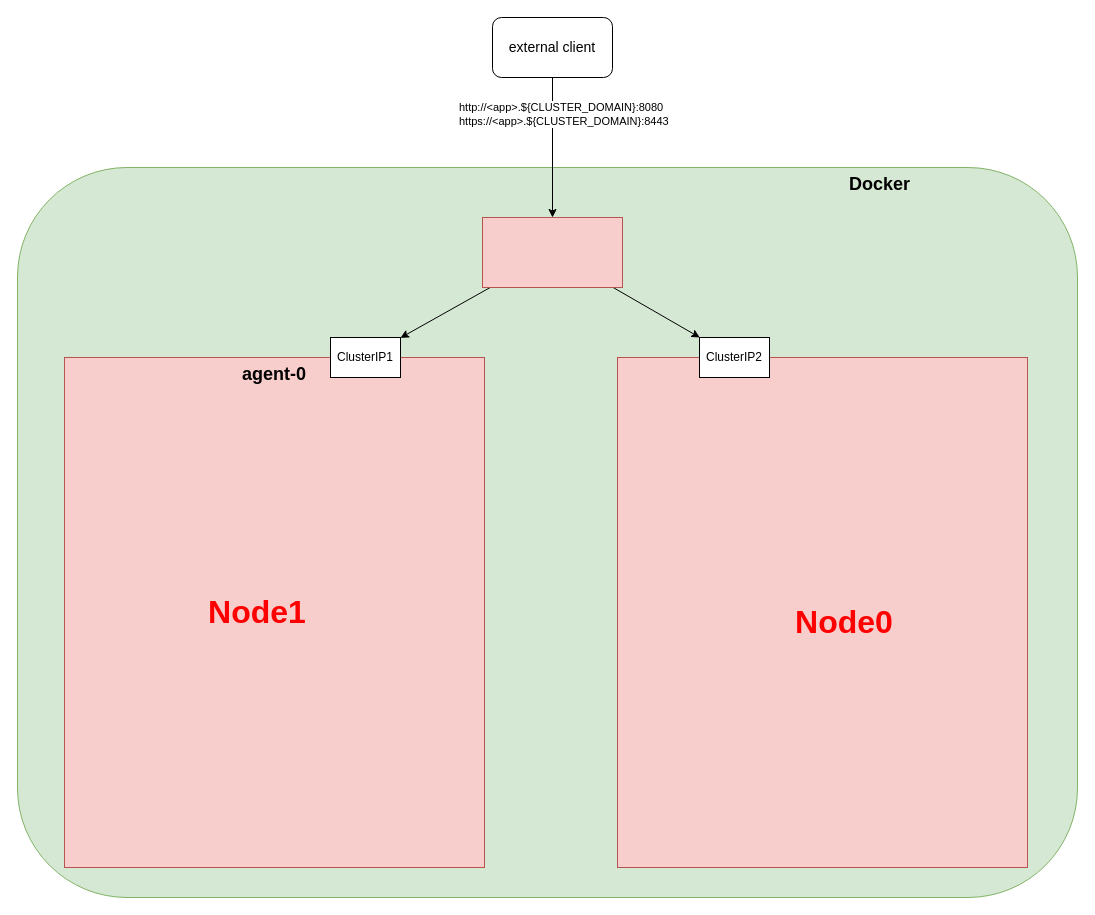
The diagram is 1095 pixels wide and 915 high, and some of its shapes have lost their labels. Each missing label, with the box of its shape:
LoadBalancer: (482, 216, 622, 288)
server-0: (616, 356, 1028, 868)
